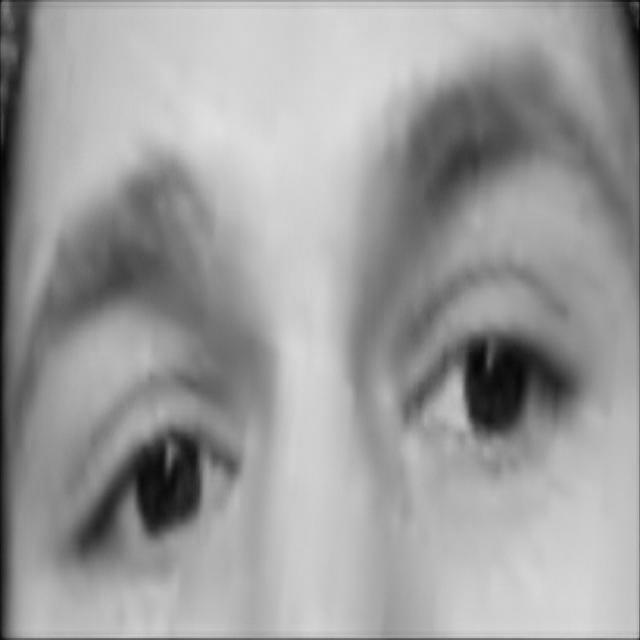real: (30, 217, 600, 591)
